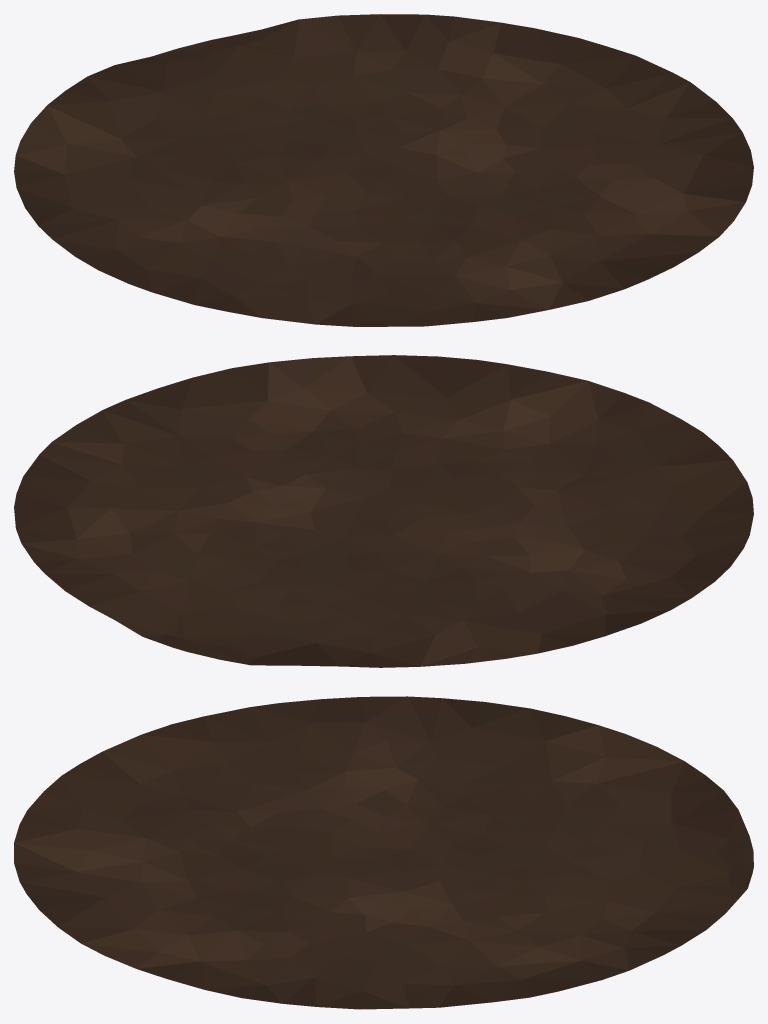
Rendered from tl_env_cave_floor_v01.glb.
3 renders of one model, top to bottom at view 1: azimuth 30°, elevation 25°; view 2: azimuth 150°, elevation 25°; view 3: azimuth 270°, elevation 25°, orthographic.
Visible parts, largest first — view 1: tl_env_cave_floor_v01; view 2: tl_env_cave_floor_v01; view 3: tl_env_cave_floor_v01.
Boxes of the visible parts, <box> form: tl_env_cave_floor_v01: <box>14,14,753,326</box>; tl_env_cave_floor_v01: <box>14,355,753,667</box>; tl_env_cave_floor_v01: <box>14,696,753,1009</box>.
Size of the model in its own units: 41.92 by 0.5621 by 41.94.
